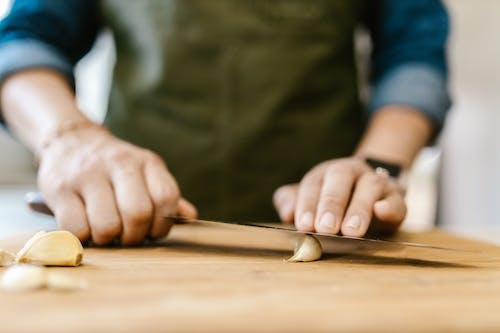knife: (159, 215, 485, 255)
